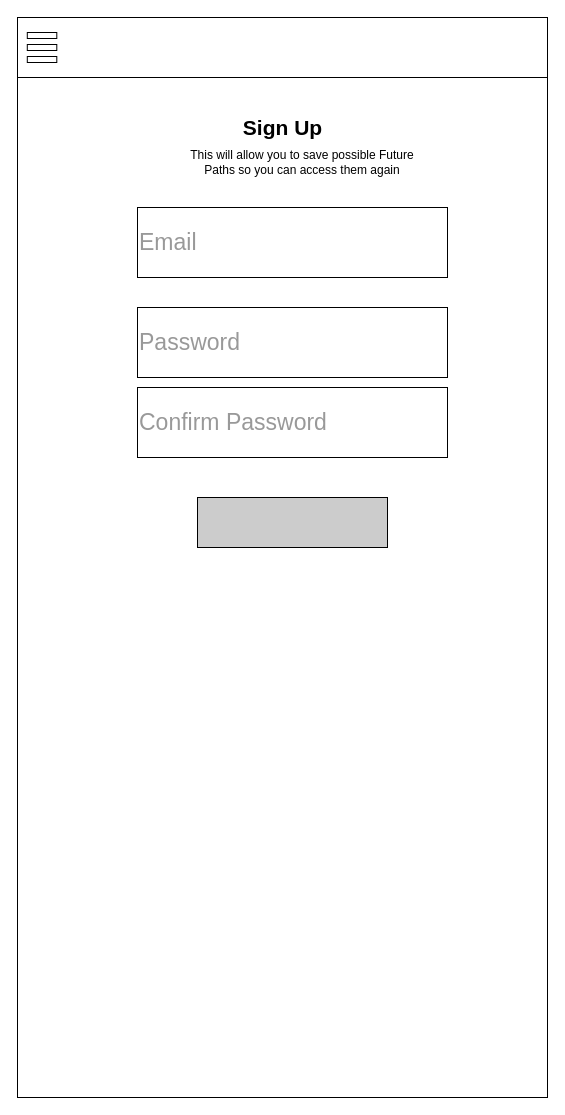
This 565x1115 diagram has some shape labels left out. Here are the shapes that lost their labels. From the top down, the box of each, then its label:
(16, 16, 548, 78): Broke Millennial
(196, 496, 388, 548): Submit
